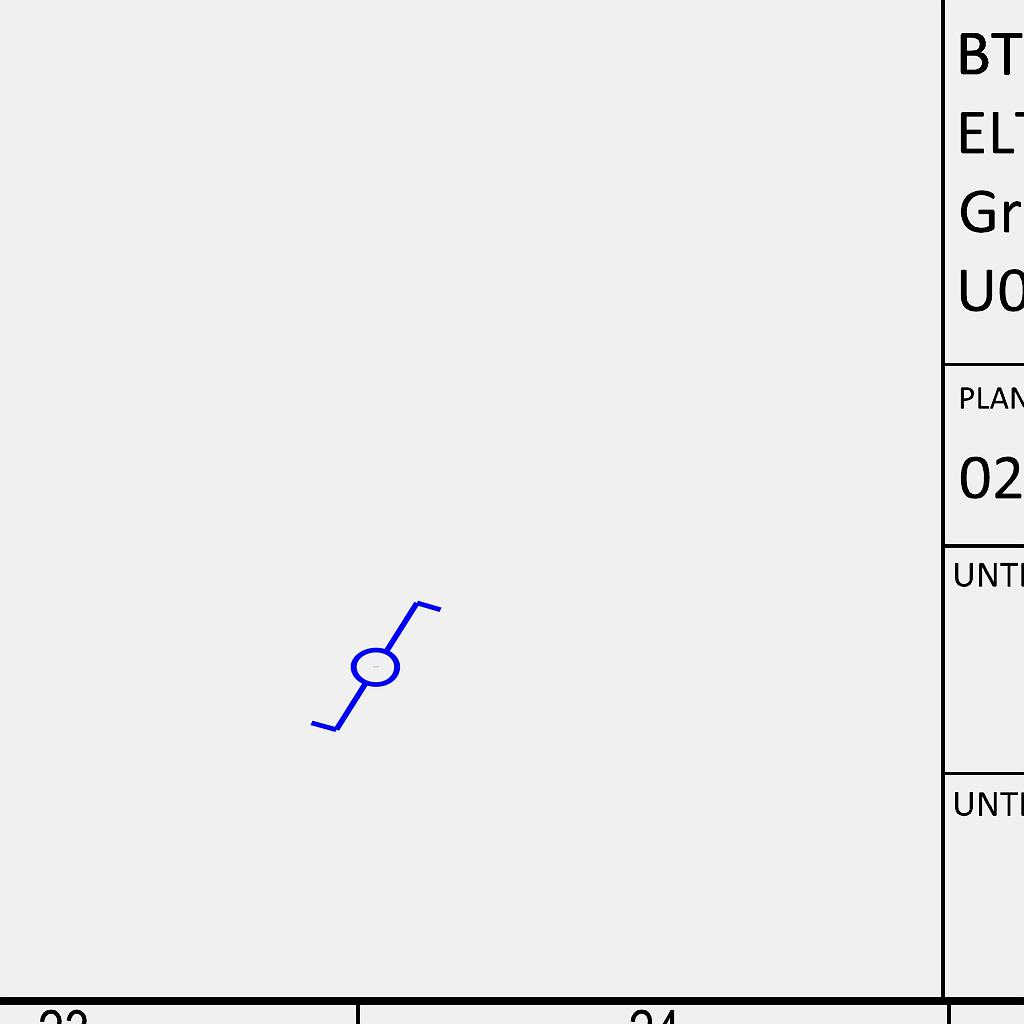Wechselschalter: (289, 593, 446, 737)
